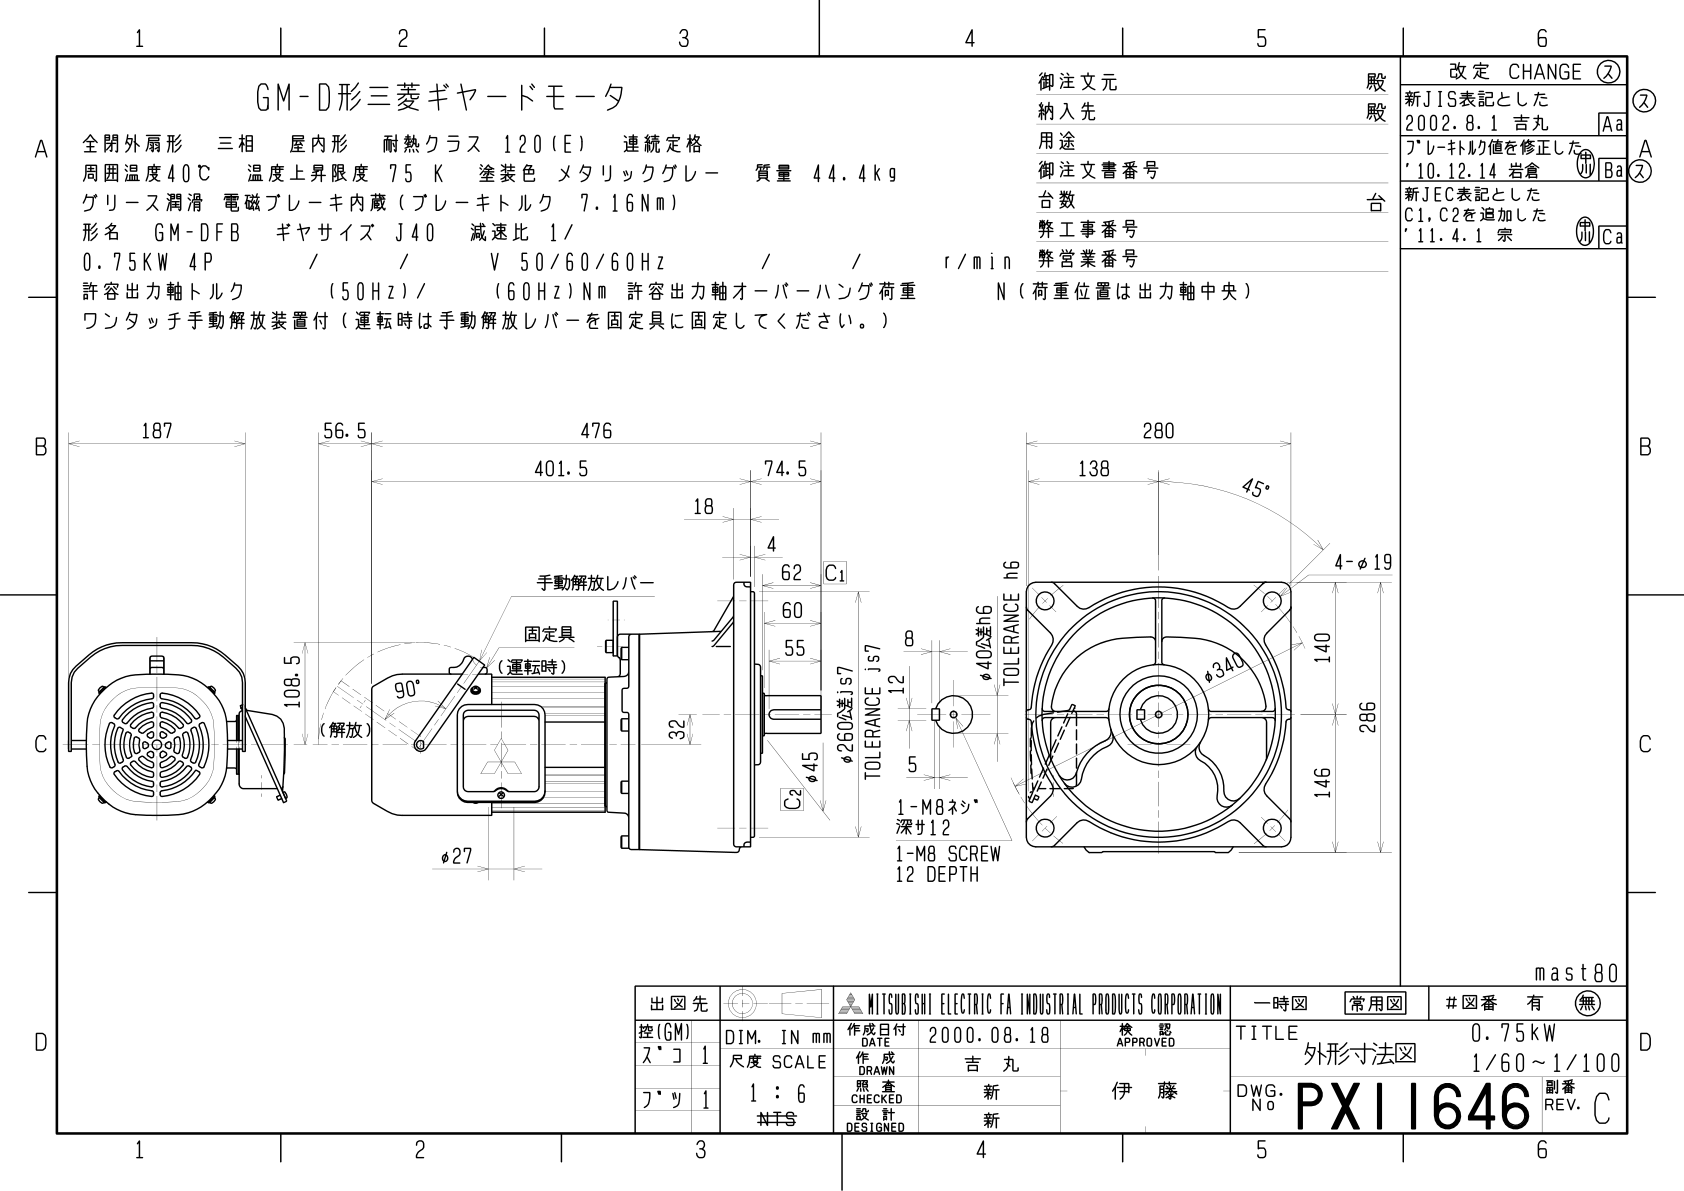GM_D_手動解放ブレーキ＿三相_フランジ: (61, 394, 1401, 931)
